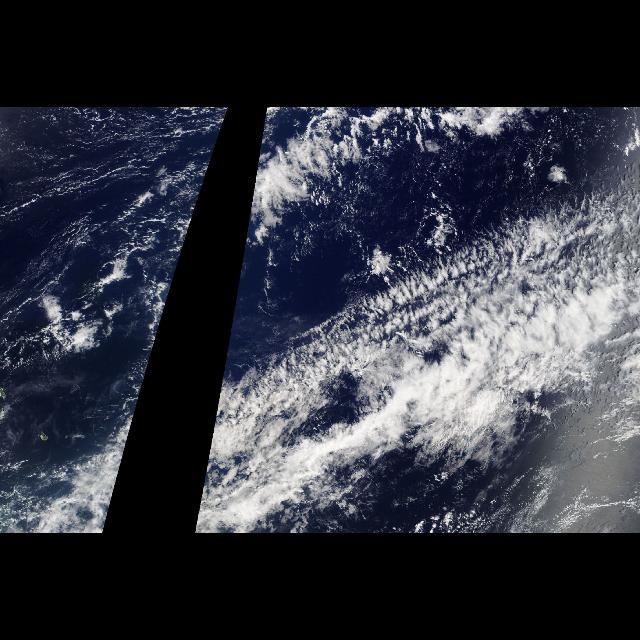Fish: (198, 176, 634, 512), (60, 176, 210, 512)
Sugar: (5, 109, 227, 304)
